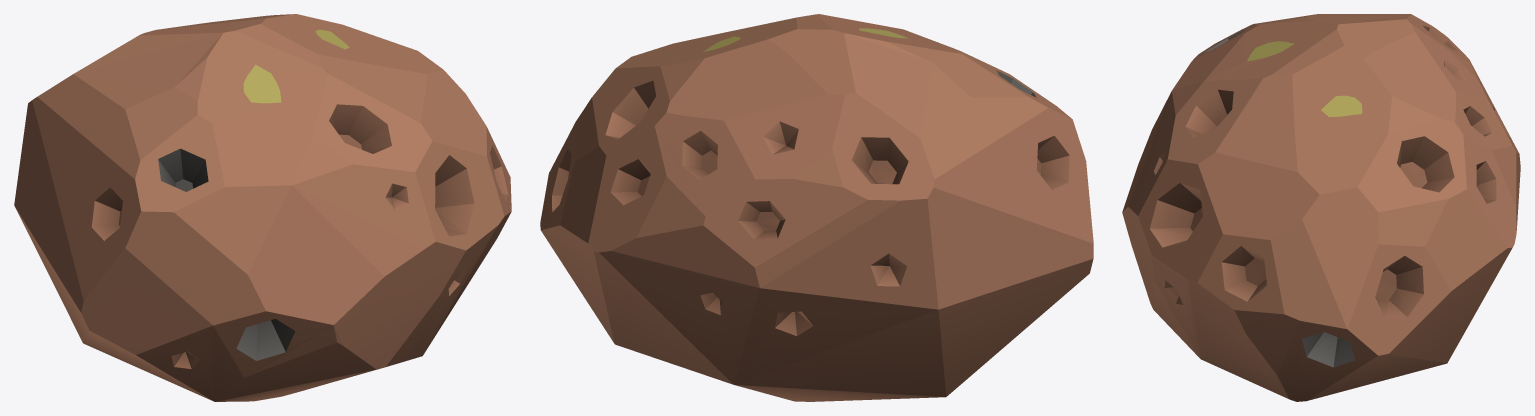
File: scoria.glb
The picture shows the model from 3 angles, left to right: view 1: azimuth 30°, elevation 25°; view 2: azimuth 150°, elevation 25°; view 3: azimuth 270°, elevation 25°; orthographic projection. The views are drawn at different scales.
Visible parts, largest first — view 1: scoria; view 2: scoria; view 3: scoria.
Boxes of the visible parts, x1,y1,x2,y2 form: scoria: (14, 14, 511, 401); scoria: (540, 14, 1093, 401); scoria: (1122, 14, 1520, 401).
Bounding box in the file's own units: 1.79 × 1.21 × 1.44.
